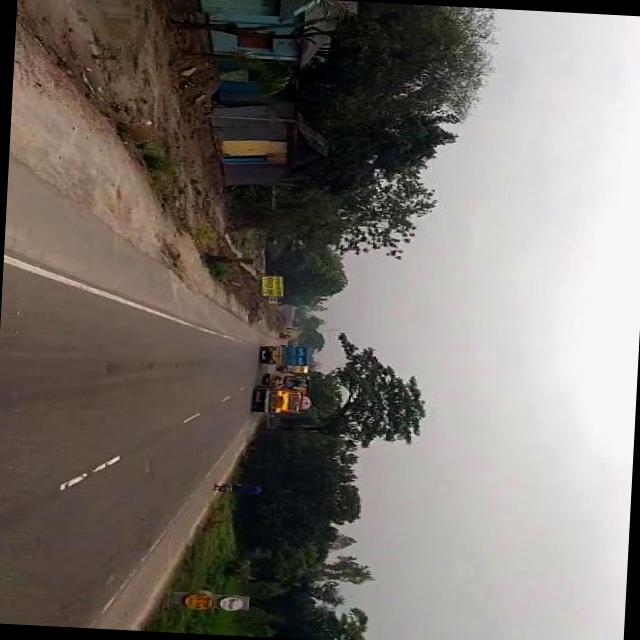bus: (265, 372, 314, 388)
truck: (251, 382, 310, 416), (260, 343, 310, 367)
